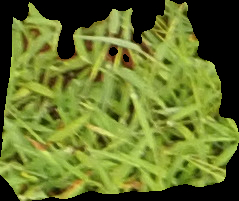grass: (1, 1, 238, 199)
